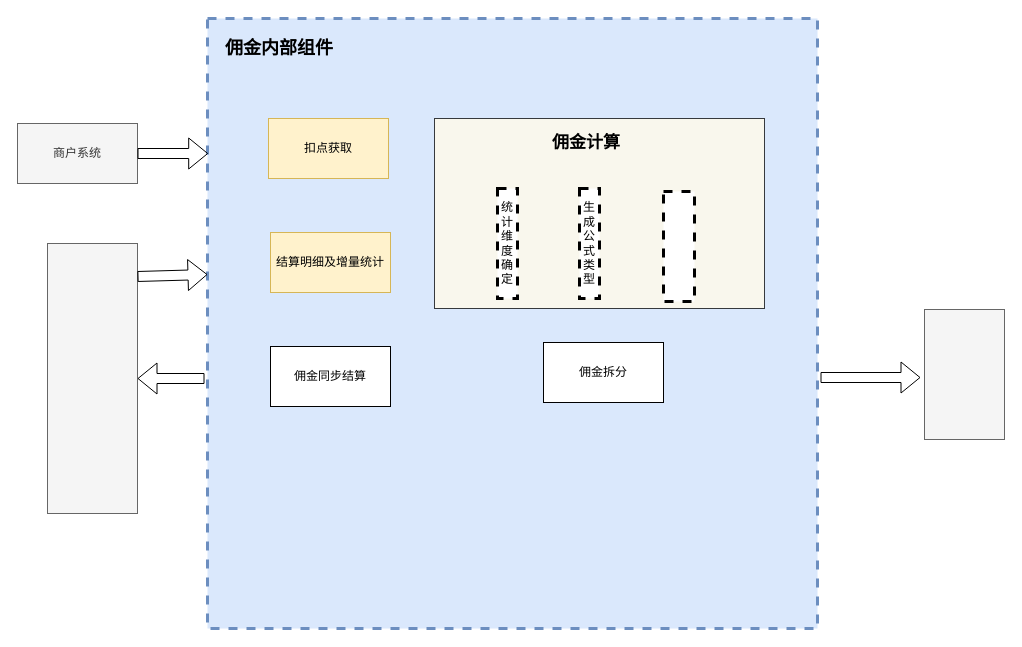
This 1022x647 diagram has some shape labels left out. The shapes that lost their labels are listed below. From the top down, each one's box as (x1, y1, x2, y2) in pixels, then its label:
(662, 190, 696, 302): 根据公式类型计算佣金
(46, 242, 138, 514): 结算系统
(924, 308, 1004, 440): EBS系统
